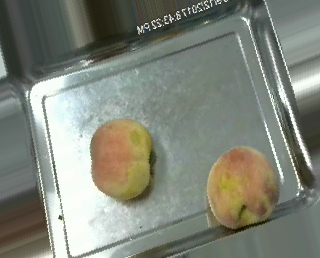Peach: (206, 145, 278, 228), (89, 117, 153, 199)
